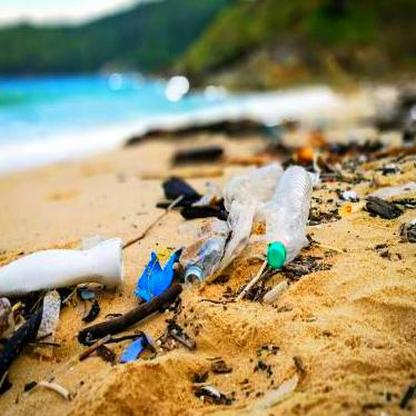plastic bottle: (265, 163, 309, 267), (183, 222, 228, 289)
